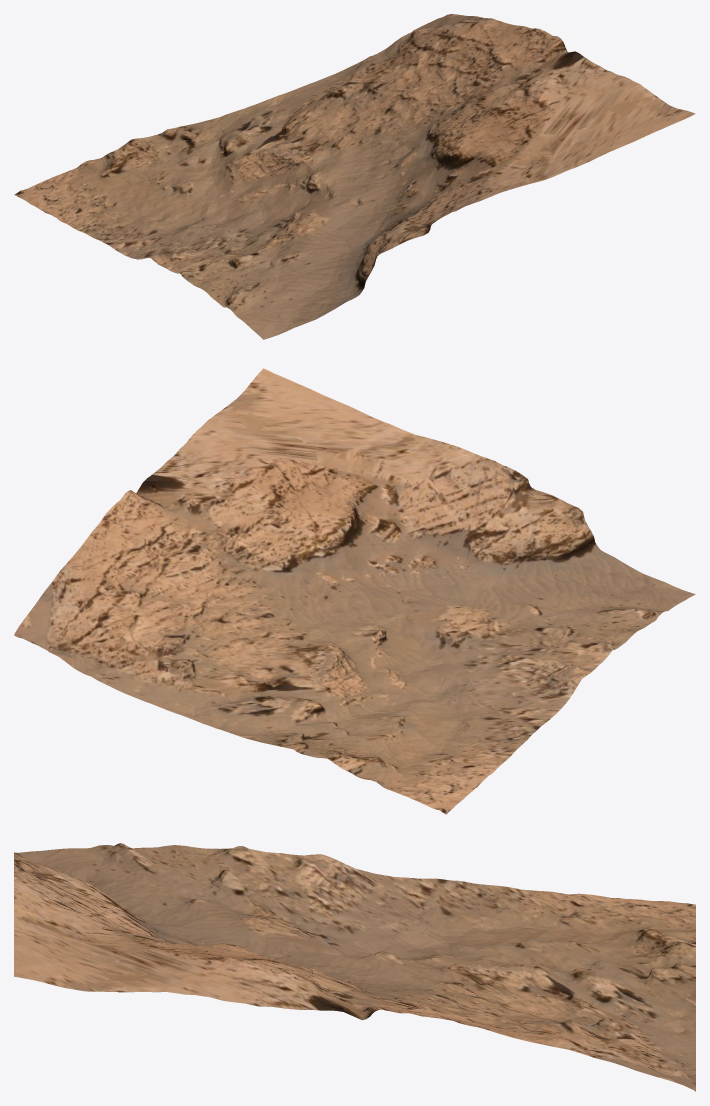
3 renders of one model, top to bottom at view 1: azimuth 30°, elevation 25°; view 2: azimuth 150°, elevation 25°; view 3: azimuth 270°, elevation 25°, orthographic. The views are drawn at different scales.
Size of the model in its own units: 4.18 by 1.46 by 4.18.
2 materials, 2 textured.
